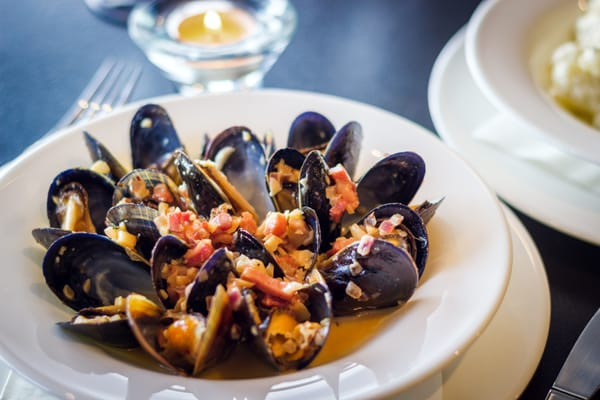sandwich: (545, 305, 600, 398)
sushi: (466, 0, 600, 169), (125, 0, 300, 94)
